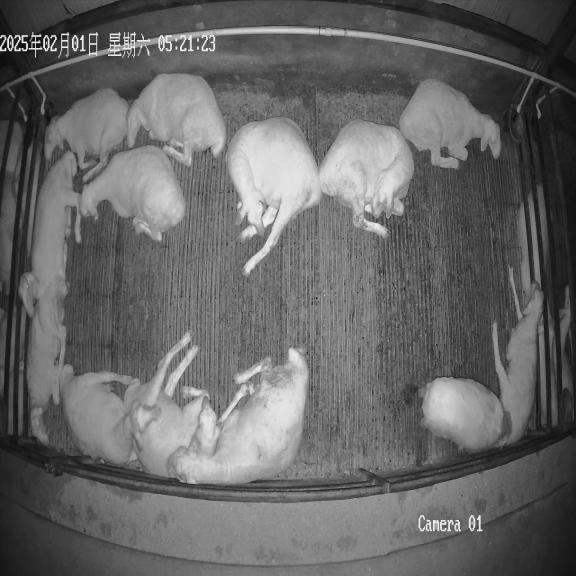lying: (167, 348, 309, 484), (226, 117, 322, 276), (124, 331, 221, 476), (319, 120, 414, 237), (18, 151, 81, 318), (60, 365, 161, 466), (80, 146, 185, 242), (127, 73, 227, 166), (399, 79, 501, 169), (492, 268, 543, 445), (45, 88, 129, 181), (27, 295, 66, 445)
stand: (422, 377, 504, 450)
